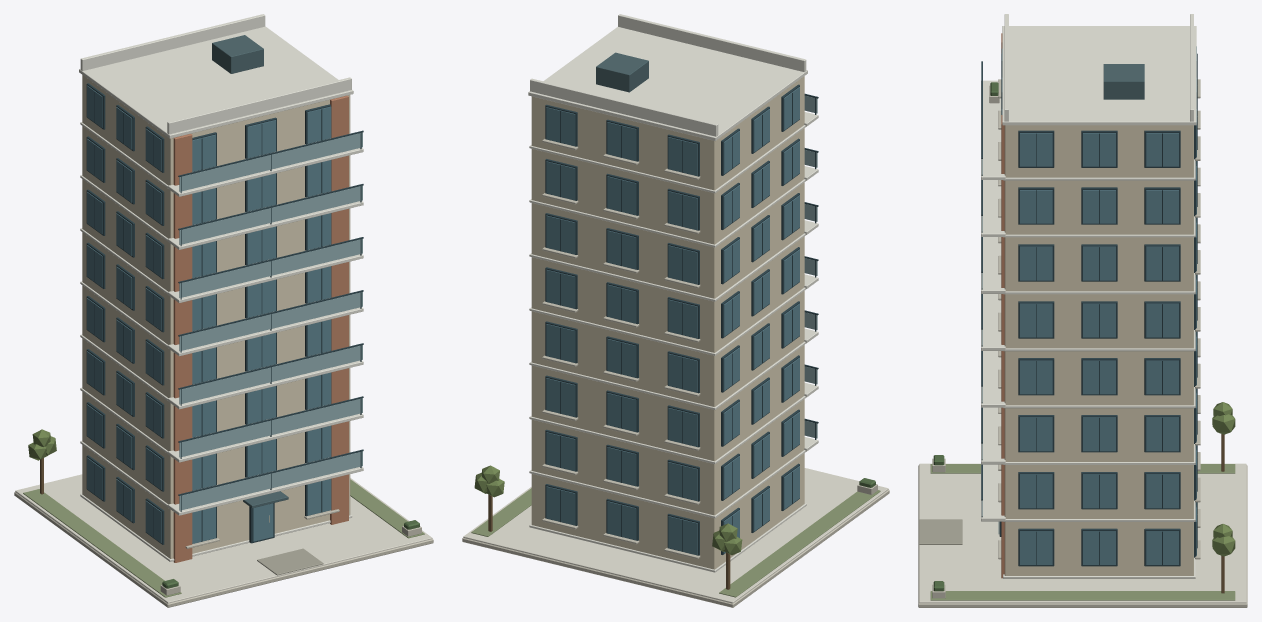
The model's file is large-4x4-a.glb.
3 renders of one model, left to right at view 1: azimuth 30°, elevation 25°; view 2: azimuth 150°, elevation 25°; view 3: azimuth 270°, elevation 25°, orthographic. The views are drawn at different scales.
Parts seen in each view (by area): view 1: BuildingBody, RoofCap, LotTop, VerticalClayFin, VerticalClayFin.001, BalconyGlass.002, BalconyGlass.003, BalconyGlass.004, BalconyGlass.005, BalconyGlass, BalconyGlass.001, BalconyGlass.006 (+39 smaller); view 2: BuildingBody, RoofCap, LotTop, RoofParapet, RoofParapet.001, GrassSide, LotBase, RoofMechanical, FloorBand.004, FloorBand.001, FloorBand.005, FloorBand.006 (+29 smaller); view 3: BuildingBody, RoofCap, LotTop, GrassSide.001, LotBase, BalconySlab.006, VerticalClayFin.001, RoofMechanical, SideGlass.025, SideGlass.031, SideGlass.007, SideGlass.013 (+37 smaller).
Part boxes in pixels (left/top/right/bottom): BuildingBody: left=82, top=75, right=350, bottom=558; RoofCap: left=79, top=26, right=353, bottom=138; LotTop: left=15, top=474, right=432, bottom=603; VerticalClayFin: left=173, top=133, right=192, bottom=562; VerticalClayFin.001: left=330, top=95, right=348, bottom=524; BalconyGlass.002: left=179, top=345, right=362, bottom=404; BalconyGlass.003: left=179, top=292, right=362, bottom=351; BalconyGlass.004: left=179, top=238, right=362, bottom=297; BalconyGlass.005: left=179, top=185, right=362, bottom=244; BalconyGlass: left=179, top=451, right=362, bottom=510; BalconyGlass.001: left=179, top=398, right=362, bottom=457; BalconyGlass.006: left=179, top=132, right=362, bottom=191; BuildingBody: left=531, top=76, right=804, bottom=569; RoofCap: left=528, top=27, right=807, bottom=140; LotTop: left=463, top=468, right=888, bottom=603; RoofParapet: left=618, top=14, right=806, bottom=72; RoofParapet.001: left=530, top=78, right=718, bottom=136; GrassSide: left=719, top=490, right=880, bottom=597; LotBase: left=462, top=489, right=889, bottom=607; RoofMechanical: left=596, top=52, right=648, bottom=92; FloorBand.004: left=529, top=287, right=806, bottom=355; FloorBand.001: left=529, top=450, right=805, bottom=518; FloorBand.005: left=529, top=233, right=805, bottom=301; FloorBand.006: left=529, top=179, right=806, bottom=247; BuildingBody: left=1004, top=125, right=1193, bottom=575; RoofCap: left=1002, top=26, right=1196, bottom=125; LotTop: left=919, top=463, right=1246, bottom=603; GrassSide.001: left=930, top=591, right=1235, bottom=600; LotBase: left=918, top=465, right=1247, bottom=607; BalconySlab.006: left=981, top=80, right=1005, bottom=179; VerticalClayFin.001: left=1001, top=115, right=1004, bottom=578; RoofMechanical: left=1103, top=64, right=1144, bottom=99; SideGlass.025: left=1020, top=303, right=1052, bottom=337; SideGlass.031: left=1020, top=246, right=1052, bottom=280; SideGlass.007: left=1020, top=474, right=1052, bottom=508; SideGlass.013: left=1020, top=417, right=1052, bottom=451.
Size of the model in its own units: 16 by 25.92 by 16.
